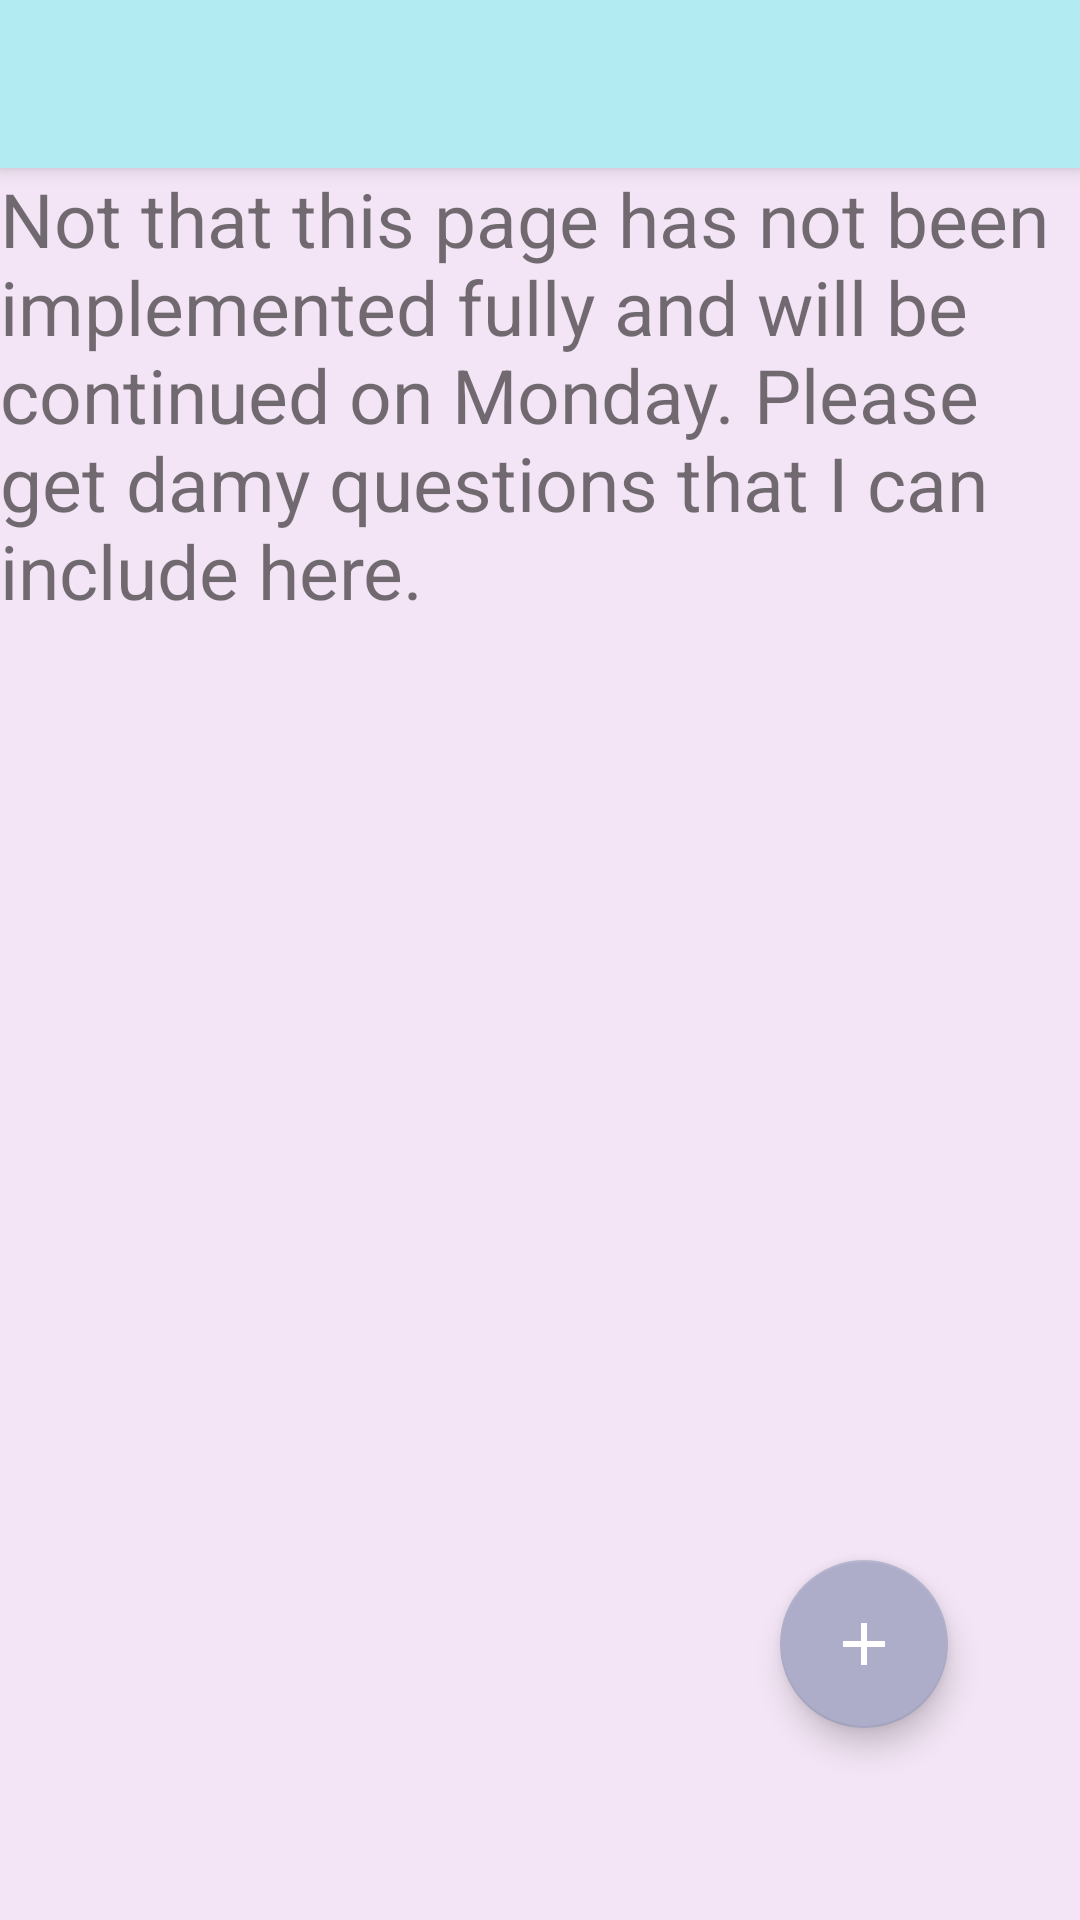

Named icons in this screenshot (1080x1920) and their centers, (x=x, y=y):
add: (x=864, y=1644)
